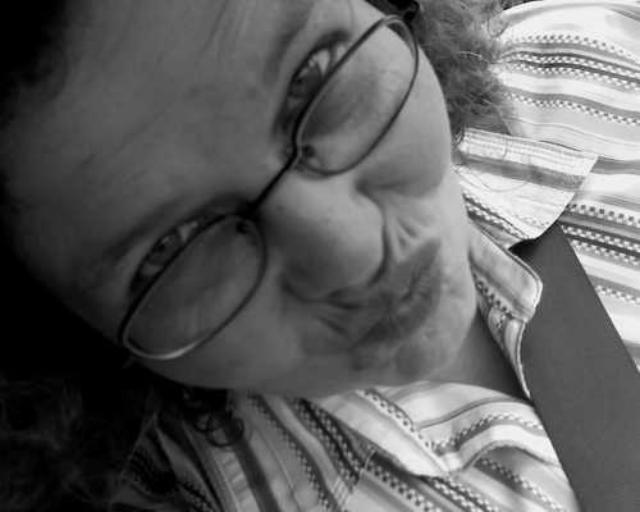Seatbelt: (468, 98, 640, 510)
